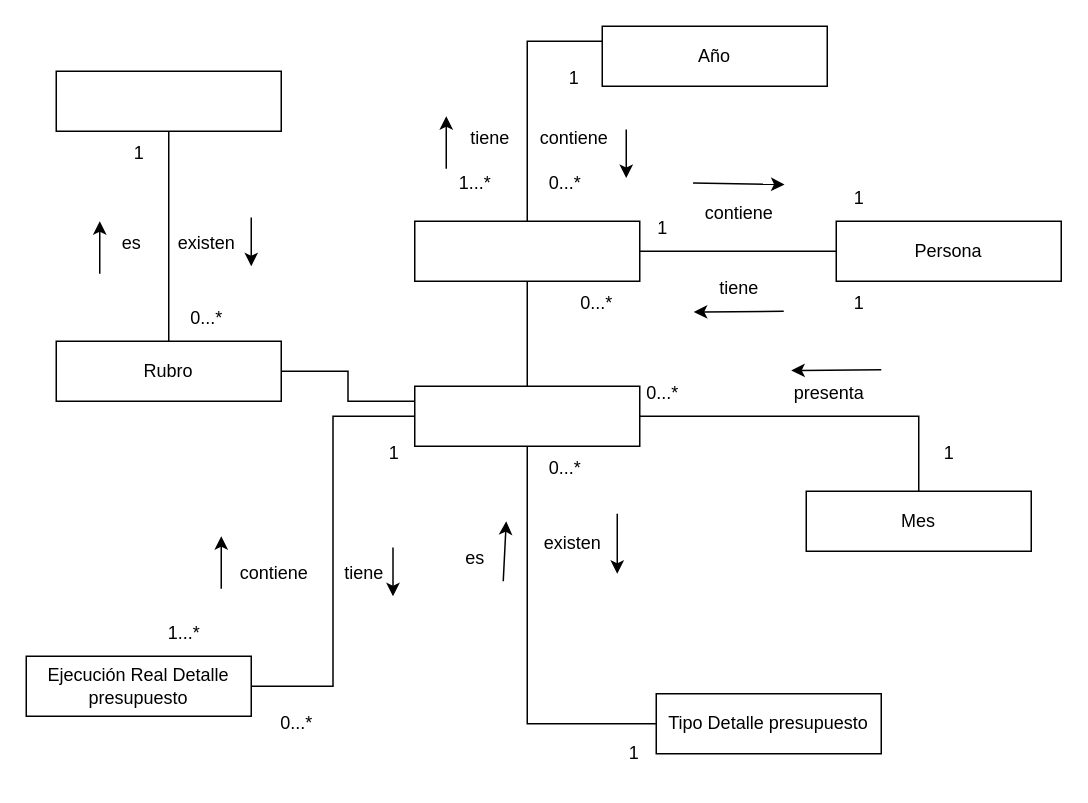
This 1088x803 diagram has some shape labels left out. Here are the shapes that lost their labels. From the top down, the centre of each, then its label:
the point at 168,100: Tipo Rubro
the point at 526,250: Presupuesto
the point at 526,415: Detalle presupuesto
